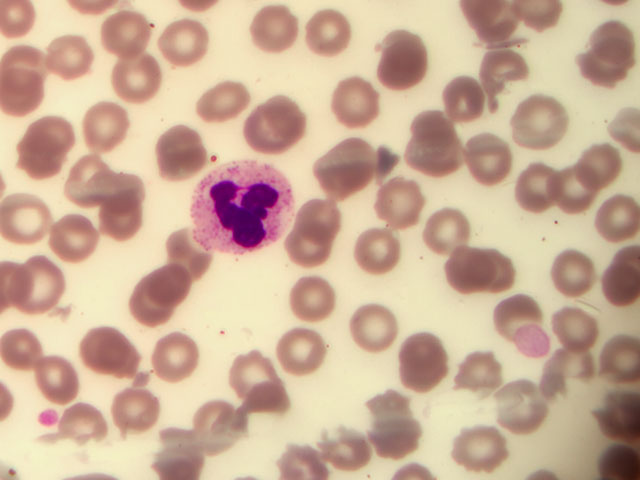Platelets: (520, 326, 549, 356), (36, 408, 63, 426)
RBC: (46, 34, 93, 80), (106, 11, 153, 57), (109, 51, 156, 97), (162, 18, 209, 64), (247, 9, 294, 55), (303, 11, 350, 57), (370, 34, 417, 80), (330, 80, 377, 126), (245, 98, 292, 144), (198, 81, 245, 127), (153, 128, 200, 174), (81, 98, 128, 144), (18, 124, 65, 170), (63, 152, 110, 198), (98, 168, 145, 214), (96, 199, 143, 245), (47, 216, 94, 262), (17, 267, 64, 313), (1, 327, 48, 373), (38, 356, 85, 402), (77, 325, 124, 371), (129, 285, 176, 331), (151, 257, 198, 303), (159, 226, 206, 272), (285, 227, 332, 273), (305, 195, 352, 241), (314, 155, 361, 201), (380, 178, 427, 224), (411, 129, 458, 175), (438, 86, 485, 132), (474, 52, 521, 98), (481, 3, 528, 49), (515, 98, 562, 144), (593, 27, 640, 73), (576, 136, 623, 182), (552, 161, 599, 207), (510, 168, 557, 214), (465, 135, 512, 181), (419, 207, 466, 253), (442, 253, 489, 299), (542, 251, 589, 297), (557, 302, 604, 348), (478, 282, 525, 328), (348, 228, 395, 274), (354, 304, 401, 350), (291, 279, 338, 325), (277, 324, 324, 370), (228, 354, 275, 400), (149, 333, 196, 379), (116, 382, 163, 428), (66, 408, 113, 454), (199, 407, 246, 453), (369, 414, 416, 460), (317, 425, 364, 471), (274, 434, 321, 480), (456, 423, 503, 469), (493, 382, 540, 428), (456, 351, 503, 397), (396, 333, 443, 379), (593, 338, 640, 384), (542, 348, 589, 394), (593, 196, 640, 242), (1, 62, 47, 108), (1, 194, 47, 240)
WBC: (192, 154, 290, 252)
